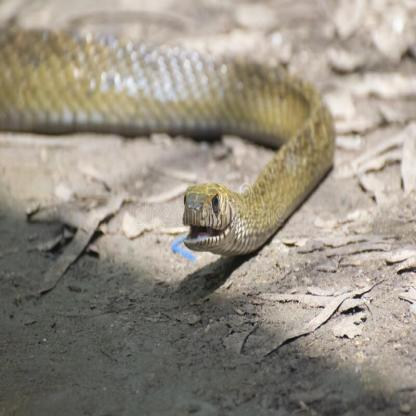snakes: (0, 16, 344, 252)
